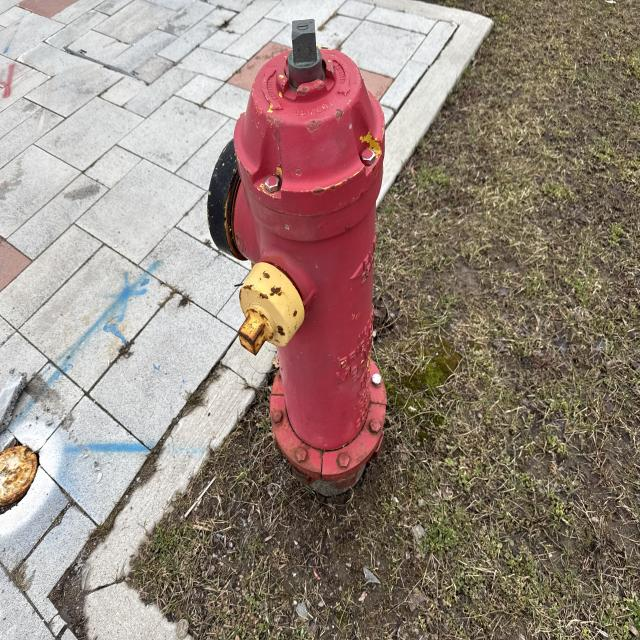Fire hydrant: (206, 18, 388, 492)
